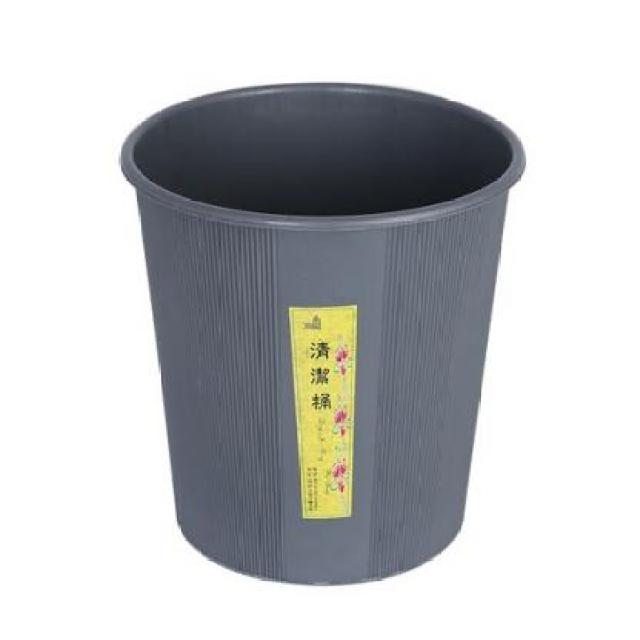dustbin: (114, 72, 532, 593)
